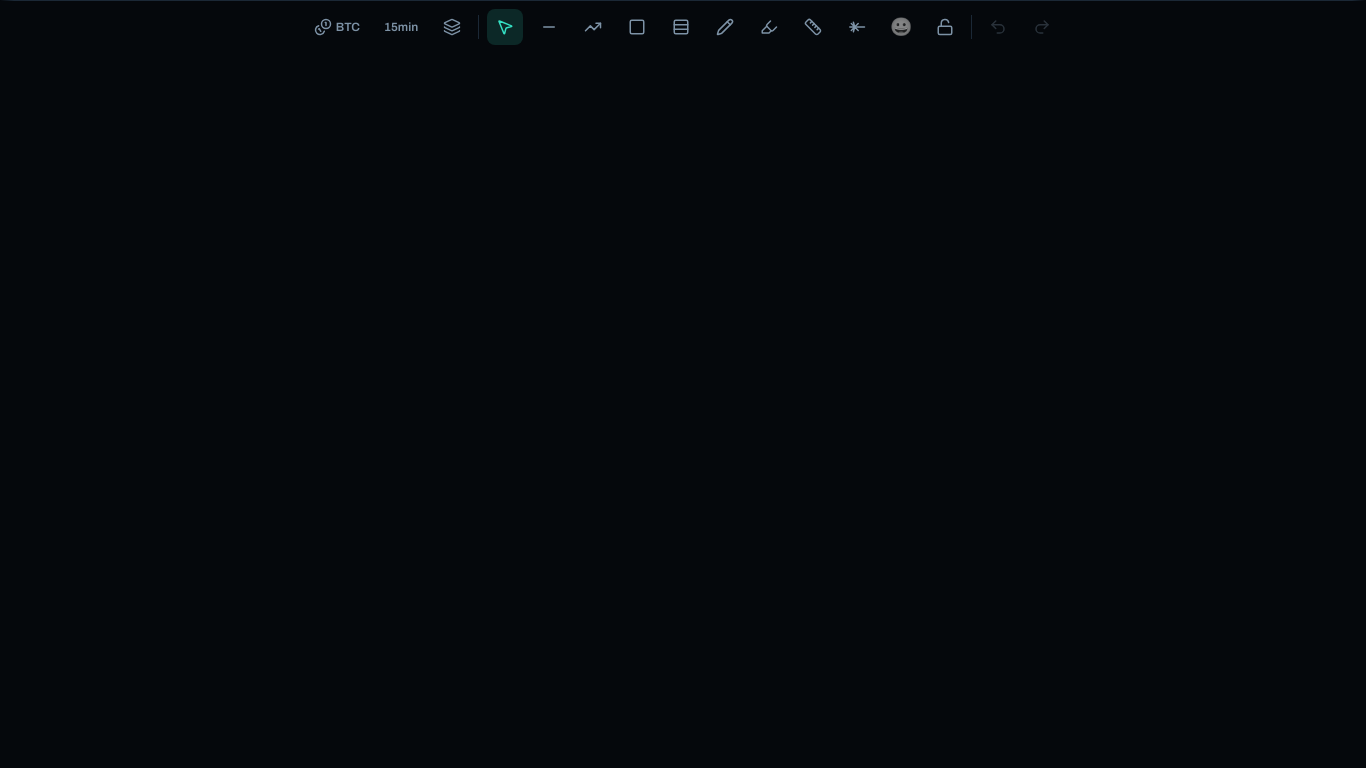
Test: what the dock says about its own controls › names the card each control opens, rather than leaving it "dialog"
The image size is (1366, 768).
Click the button named "On the chart" at (452, 27), box [434, 9, 470, 45]
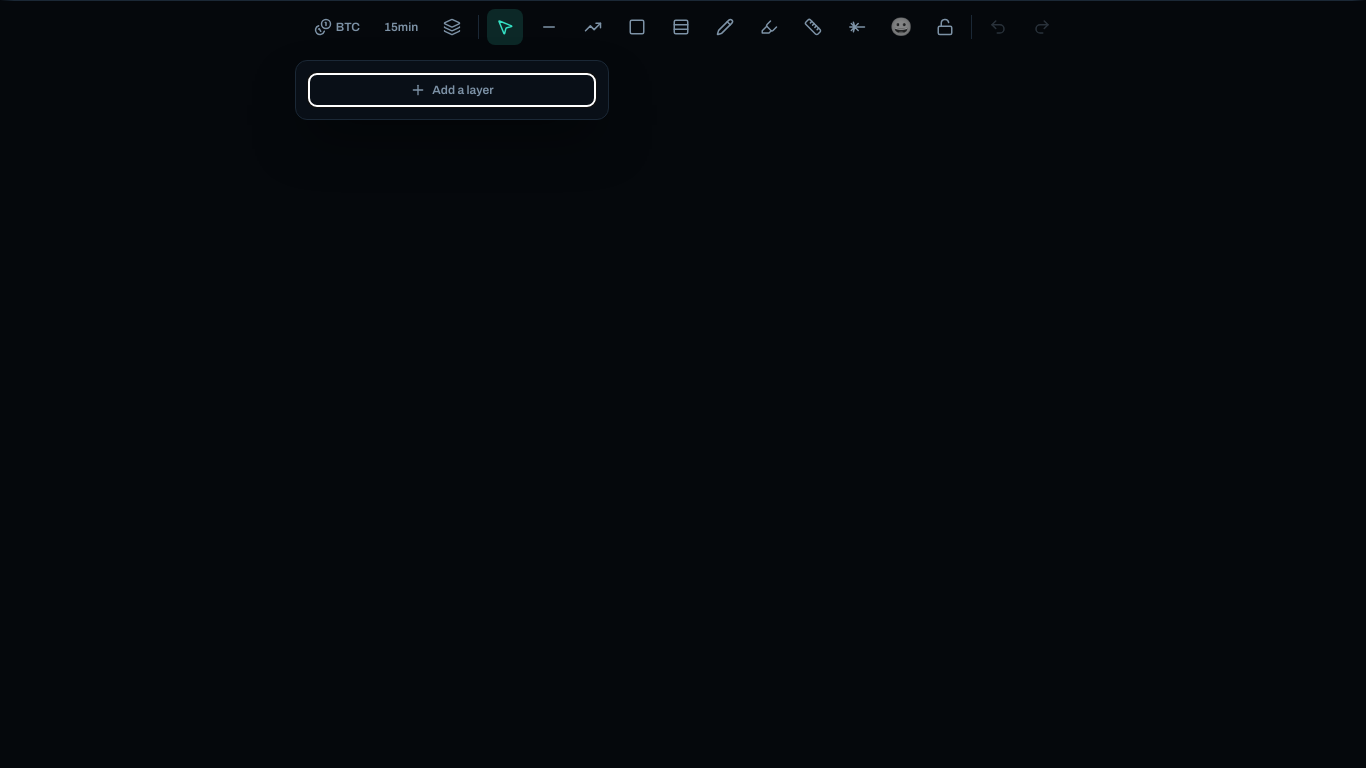
Expected: the dialog named "On the chart" is shown, [295, 60, 609, 120]
